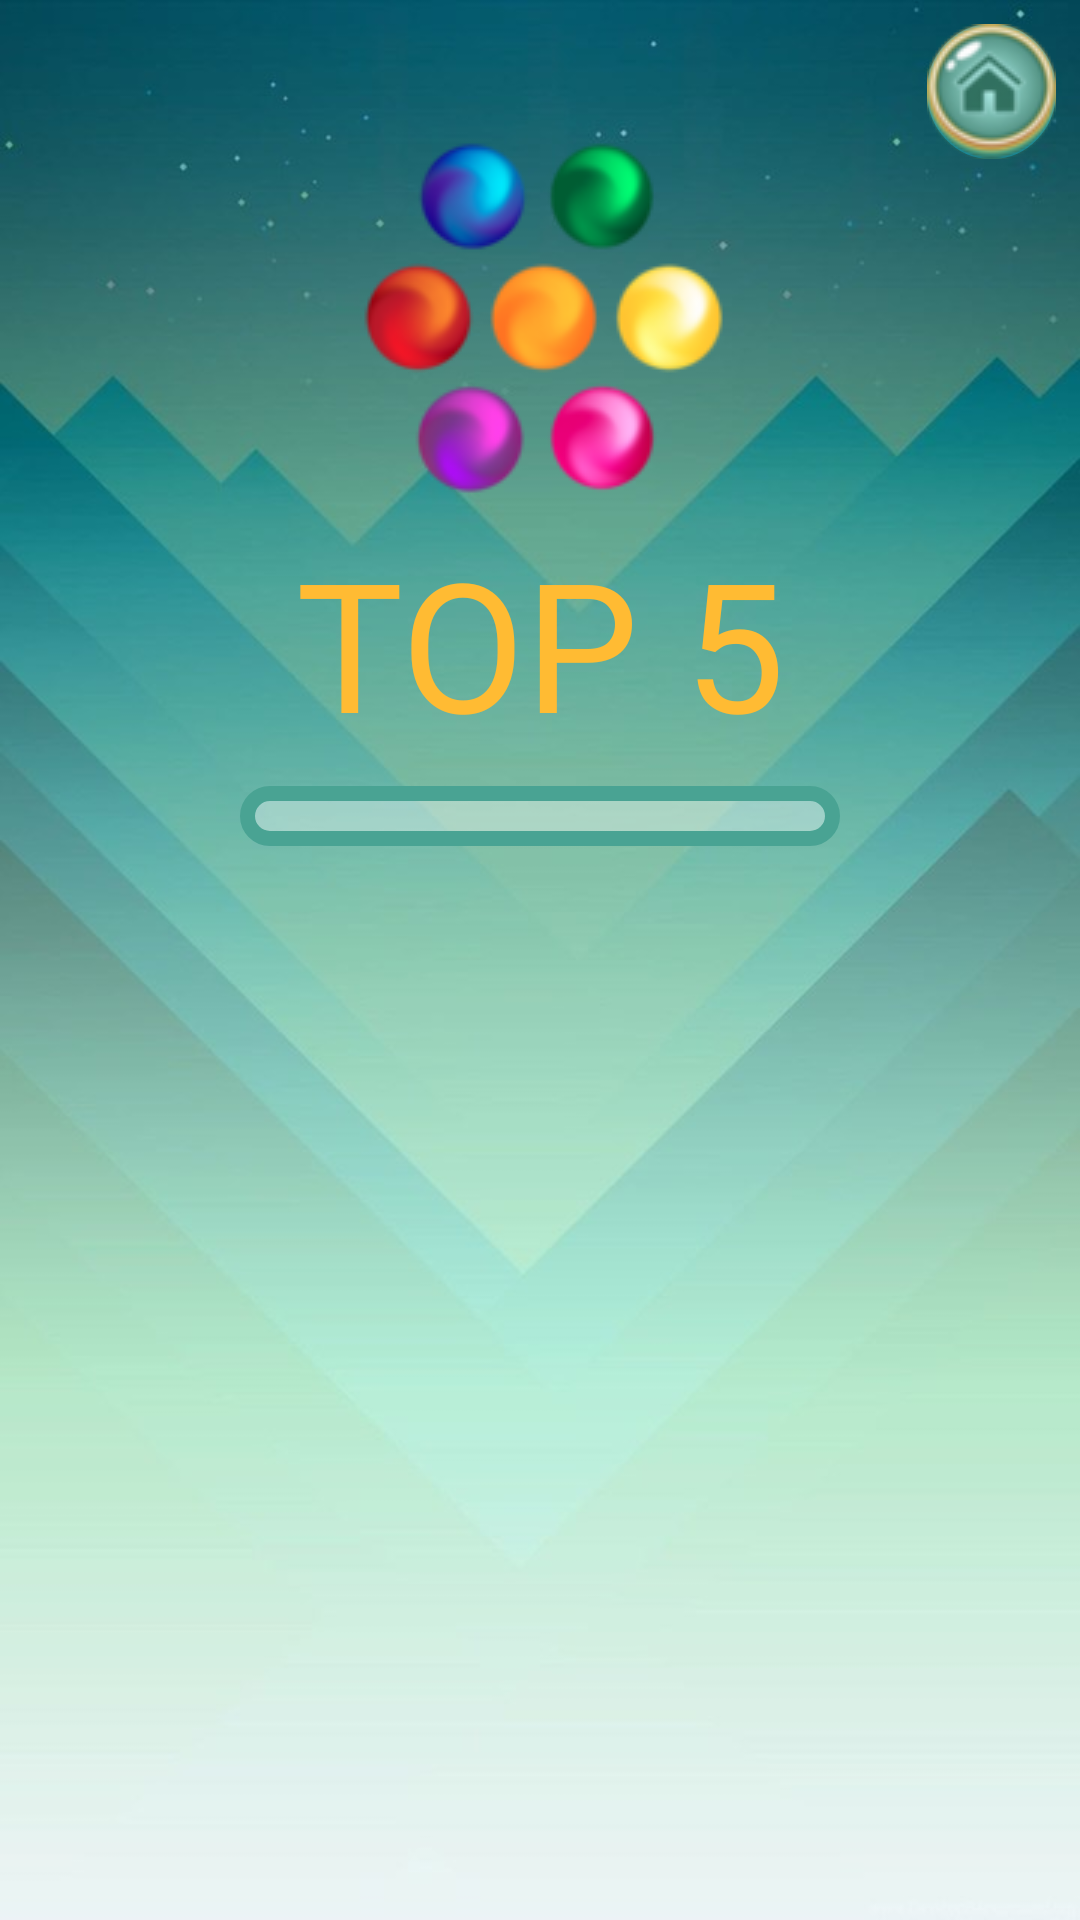

Screen size 1080 x 1920. Icon name, then its box in pixels as {"left": x1, "top": y1, "right": x2, "bottom": y2}:
home: {"left": 927, "top": 24, "right": 1056, "bottom": 159}
